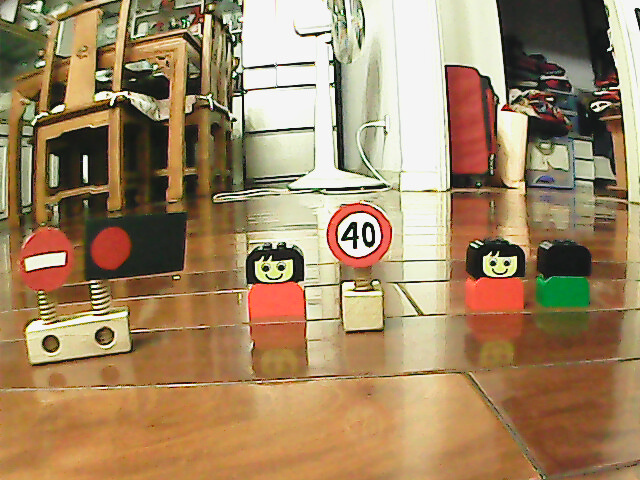Person: (242, 240, 310, 323), (462, 237, 527, 315)
Red Traffic Light: (84, 219, 135, 278)
Speed Limit 40: (325, 200, 394, 269)
Stop Sign: (13, 223, 79, 295)
